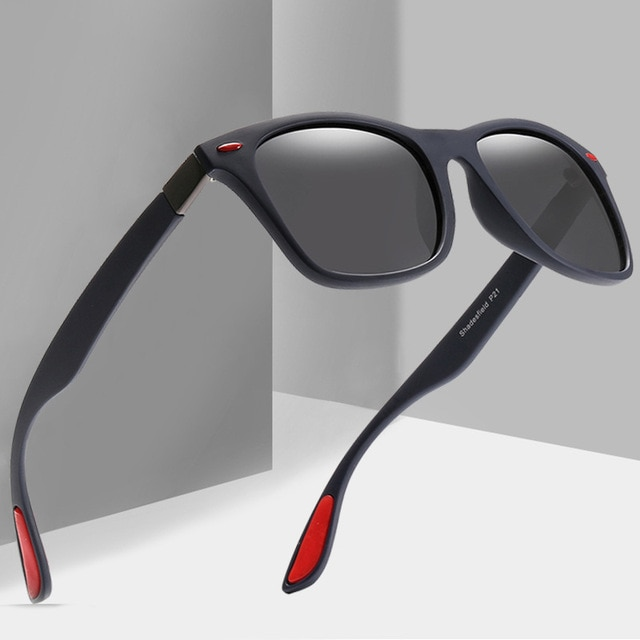sunglasses: (139, 108, 640, 338)
